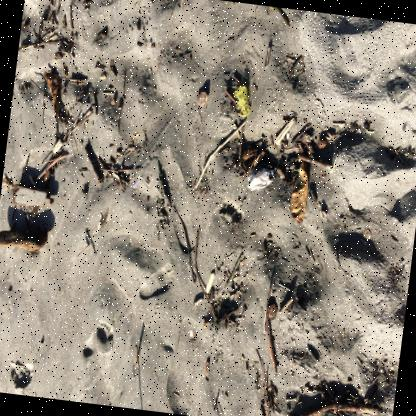Normal paper: (246, 167, 275, 190)
Other plastic bottle: (132, 179, 138, 189)
Rope - strings: (233, 85, 250, 119)
